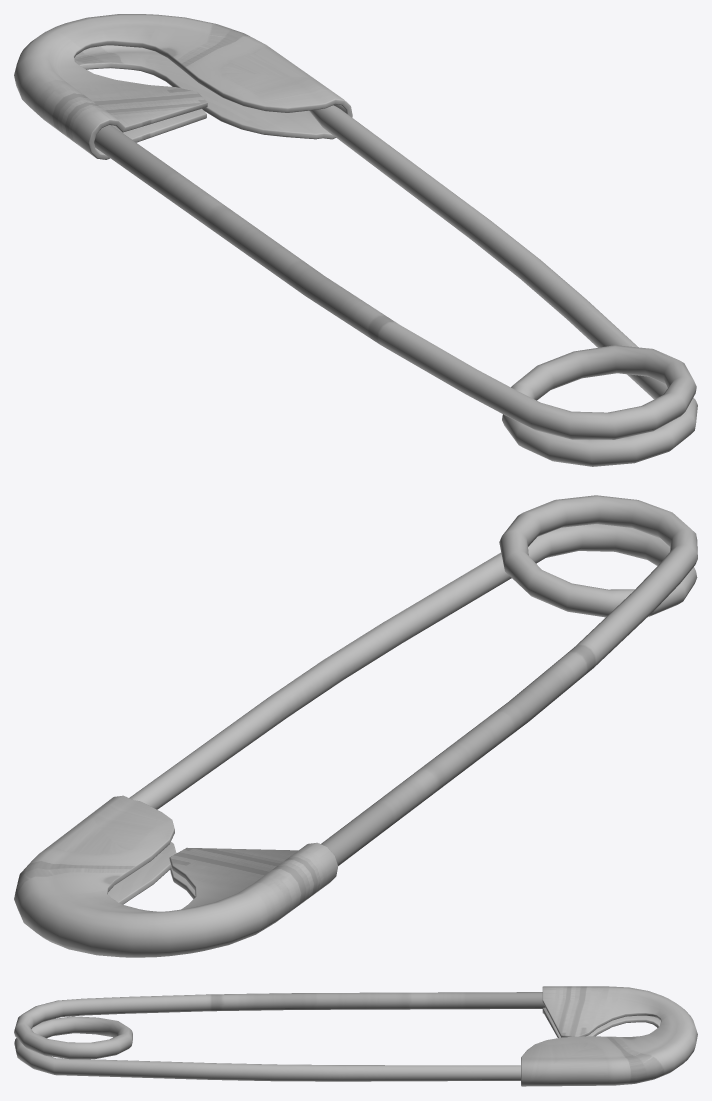
File: Safety_Pin_Closed.fbx
3 renders of one model, top to bottom at view 1: azimuth 30°, elevation 25°; view 2: azimuth 150°, elevation 25°; view 3: azimuth 270°, elevation 25°, orthographic. The views are drawn at different scales.
Parts seen in each view (by area): view 1: Safety_Pin_Closed; view 2: Safety_Pin_Closed; view 3: Safety_Pin_Closed.
Part boxes in pixels (box(x1,y1,x2,y2)): Safety_Pin_Closed: box(14, 14, 697, 466); Safety_Pin_Closed: box(14, 495, 697, 957); Safety_Pin_Closed: box(14, 986, 697, 1086).
Size of the model in its own units: 1.06 by 0.2365 by 4.16.
1 material, 1 textured.
